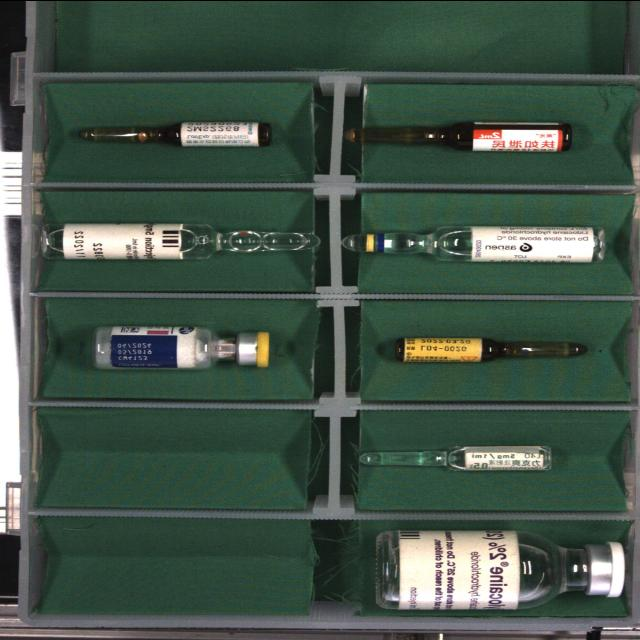Vials: (377, 530, 625, 609), (95, 325, 269, 369)
